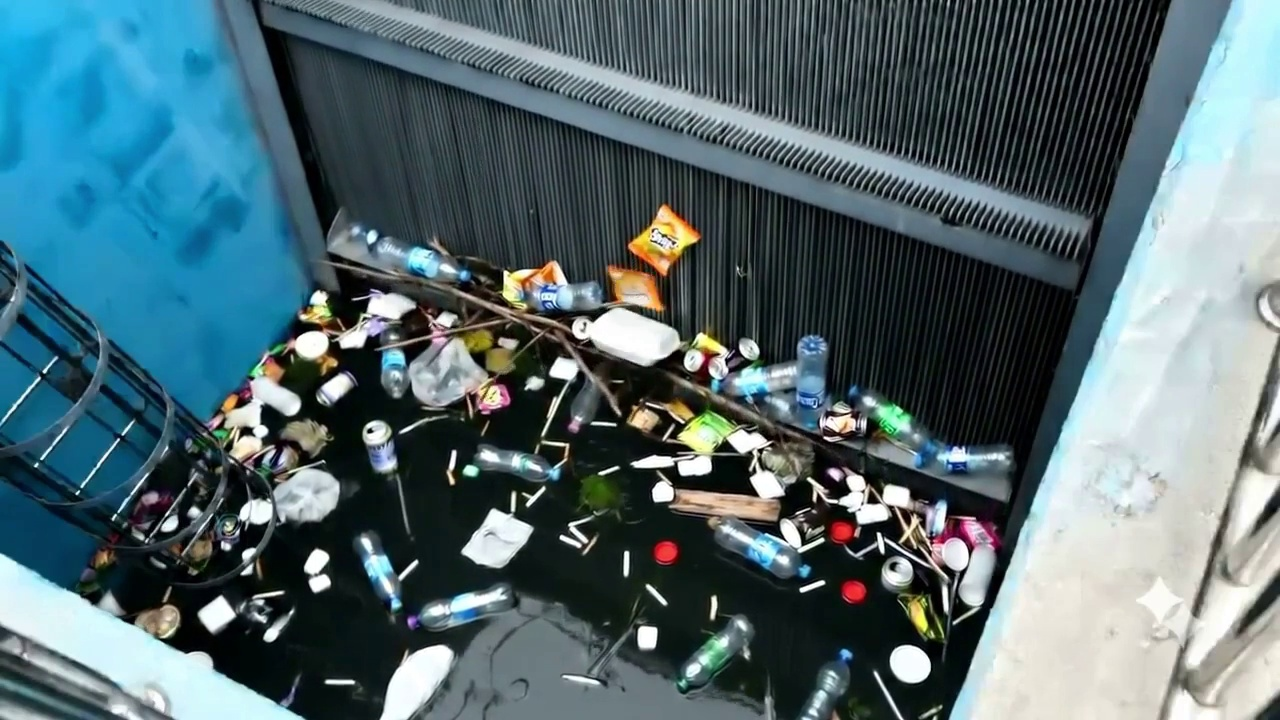debris: (813, 460, 958, 572), (330, 215, 470, 282), (848, 385, 939, 456), (708, 517, 810, 579), (676, 615, 754, 692), (408, 337, 488, 407), (380, 645, 455, 719), (561, 613, 637, 685), (589, 307, 680, 366), (407, 582, 516, 630), (628, 204, 700, 276), (461, 509, 532, 567), (796, 649, 853, 719), (353, 531, 401, 612), (273, 468, 340, 523), (463, 444, 559, 482), (669, 490, 780, 522), (501, 260, 567, 308), (916, 444, 1015, 475), (712, 361, 796, 397), (606, 265, 664, 311), (678, 411, 735, 453), (761, 442, 814, 485), (958, 545, 995, 606), (528, 281, 603, 311), (898, 595, 945, 641), (818, 401, 872, 441), (250, 377, 300, 416), (779, 505, 825, 547), (578, 475, 625, 516), (362, 420, 397, 473), (280, 420, 331, 456), (567, 382, 601, 433), (247, 443, 299, 476), (539, 382, 569, 438), (889, 645, 931, 684), (134, 604, 180, 639), (293, 330, 335, 367), (872, 669, 903, 719), (883, 538, 933, 569), (197, 595, 236, 634), (316, 371, 356, 406), (366, 293, 416, 320), (958, 518, 1000, 549), (880, 556, 913, 592), (263, 608, 295, 643), (725, 428, 768, 454), (476, 383, 510, 415), (236, 598, 271, 629), (223, 400, 261, 428), (276, 460, 326, 481), (214, 514, 243, 550), (941, 537, 969, 572), (750, 470, 785, 498), (397, 415, 448, 434), (689, 333, 729, 356), (337, 320, 369, 348), (627, 405, 659, 432), (239, 499, 272, 525), (484, 346, 514, 374), (661, 400, 695, 424), (677, 455, 713, 477), (881, 484, 912, 509), (279, 673, 301, 708), (548, 356, 578, 381), (681, 348, 708, 374), (856, 504, 889, 525), (805, 477, 830, 503), (828, 520, 855, 544), (653, 540, 678, 565), (304, 549, 328, 575), (736, 337, 760, 362), (841, 580, 866, 603), (631, 455, 675, 468), (952, 606, 982, 625), (644, 583, 668, 606), (636, 625, 657, 651), (938, 579, 952, 617), (651, 481, 675, 503), (398, 559, 420, 582), (185, 651, 213, 669), (570, 317, 591, 341), (836, 492, 862, 511), (707, 356, 728, 379), (849, 542, 877, 559), (844, 472, 866, 493), (525, 485, 545, 508), (798, 536, 825, 553), (432, 311, 458, 328), (581, 533, 600, 556), (308, 574, 331, 593), (798, 579, 826, 594), (159, 514, 180, 533), (917, 705, 943, 719), (252, 425, 270, 445), (559, 534, 582, 549), (568, 525, 587, 543), (524, 375, 544, 391), (568, 515, 594, 527), (251, 590, 285, 599), (655, 470, 674, 486), (641, 399, 666, 411), (554, 448, 569, 468), (323, 678, 357, 686), (596, 465, 620, 476), (749, 451, 761, 473), (186, 504, 203, 519), (708, 595, 718, 620), (447, 449, 457, 472), (241, 547, 256, 562), (662, 425, 675, 442), (622, 550, 630, 577), (508, 490, 517, 514), (542, 440, 568, 448), (876, 532, 885, 555), (446, 470, 456, 486), (590, 421, 616, 427), (480, 420, 489, 435)
